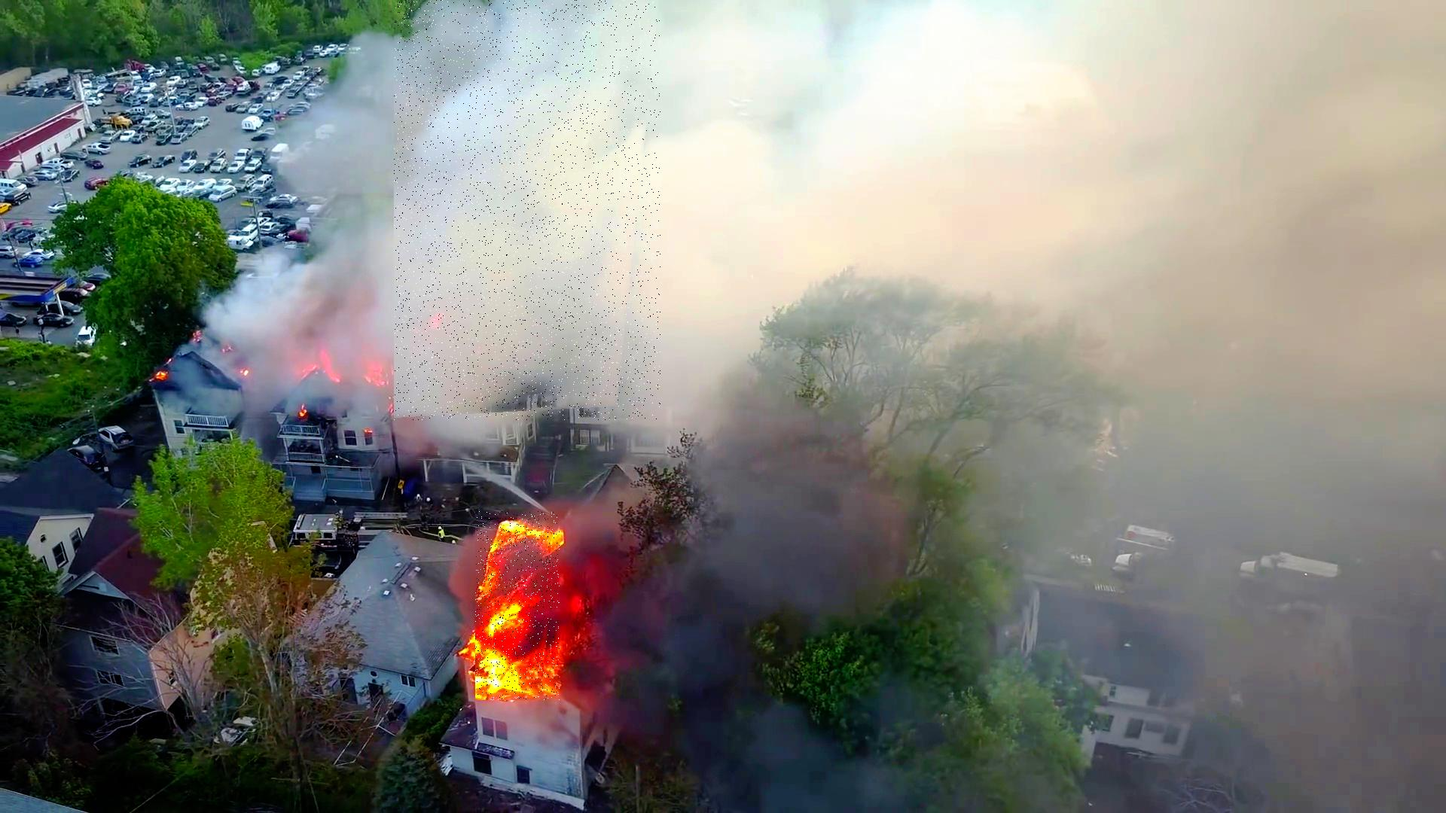fire: (475, 511, 560, 700)
smoke: (394, 0, 660, 420)
